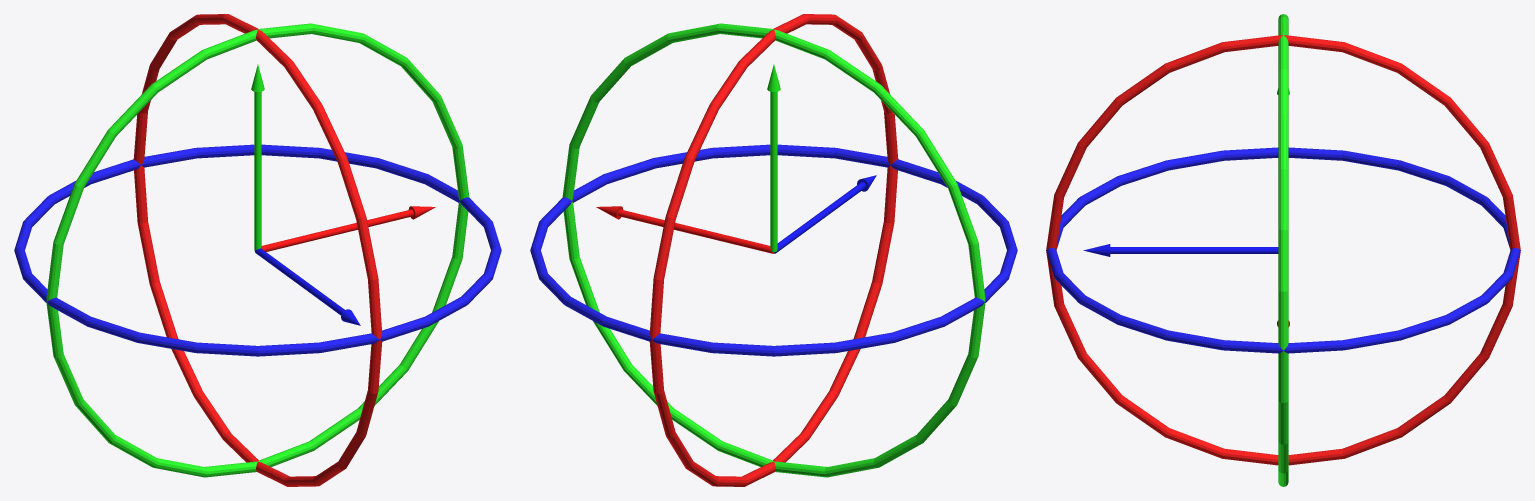
File: Axis.fbx
The picture shows the model from 3 angles, left to right: view 1: azimuth 30°, elevation 25°; view 2: azimuth 150°, elevation 25°; view 3: azimuth 270°, elevation 25°; orthographic projection. The views are drawn at different scales.
Parts seen in each view (by area): view 1: Rotation_Roll, Rotation_Pitch, Rotation_Yaw, Axis_Y, Axis_X, Axis_Z; view 2: Rotation_Roll, Rotation_Pitch, Rotation_Yaw, Axis_Y, Axis_X, Axis_Z; view 3: Rotation_Pitch, Rotation_Yaw, Rotation_Roll, Axis_Z.
Part boxes in pixels (x1,y1,x2,y2): Rotation_Roll: (46, 23, 469, 477); Rotation_Pitch: (133, 14, 382, 486); Rotation_Yaw: (14, 144, 501, 356); Axis_Y: (251, 64, 264, 250); Axis_X: (261, 206, 435, 251); Axis_Z: (255, 248, 360, 325); Rotation_Roll: (562, 23, 985, 477); Rotation_Pitch: (649, 14, 898, 486); Rotation_Yaw: (530, 144, 1017, 356); Axis_Y: (767, 64, 780, 251); Axis_X: (596, 206, 773, 253); Axis_Z: (774, 175, 876, 253); Rotation_Pitch: (1046, 35, 1520, 465); Rotation_Yaw: (1046, 147, 1520, 353); Rotation_Roll: (1278, 14, 1288, 486); Axis_Z: (1083, 244, 1278, 256).
Size of the model in its own units: 0.548 by 0.548 by 0.548.
1 material, 1 textured.
